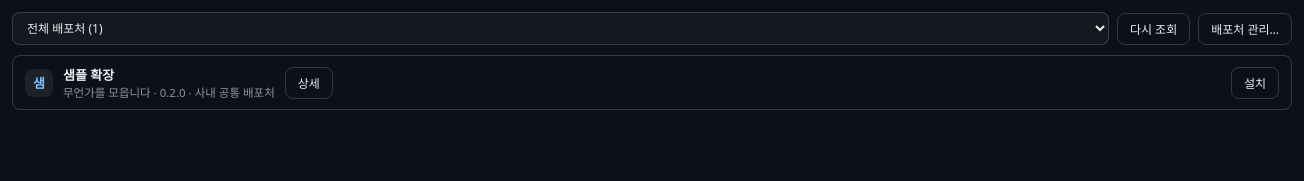
it: 실패 사유를 사람 말로 — 받기와 풀기가 한 통로로 온다 › timeout
This screenshot has width=1304, height=181.
Step 1. Click the button "설치" → (1255, 82), box [1231,66,1279,98]
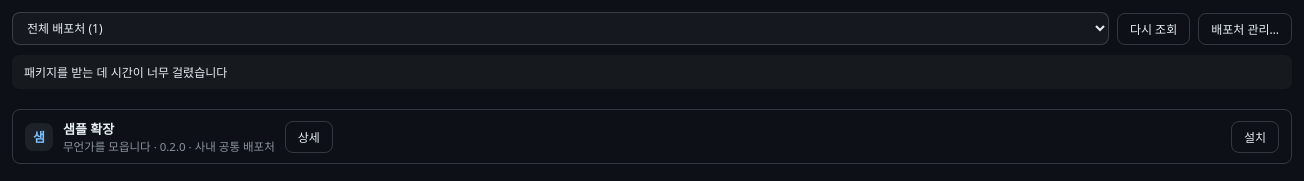
Expected: the text "패키지를 받는 데 시간이 너무 걸렸습니다" is shown, [12,55,1292,89]
